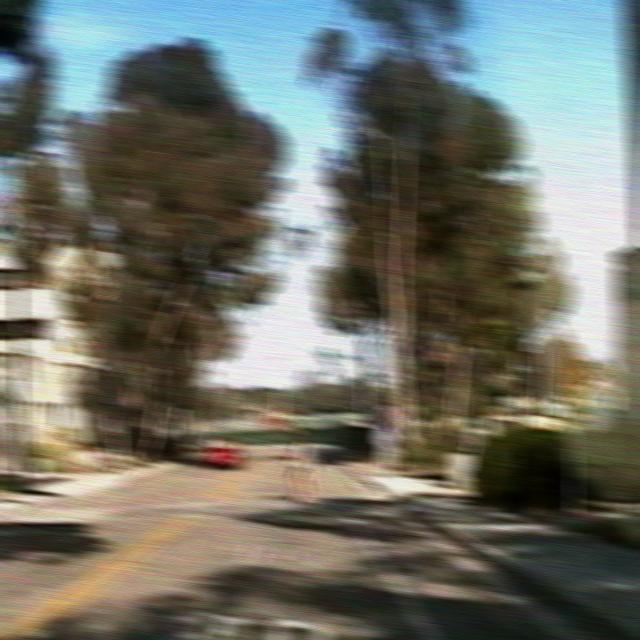pedestrianCrossing: (558, 340, 592, 399)
